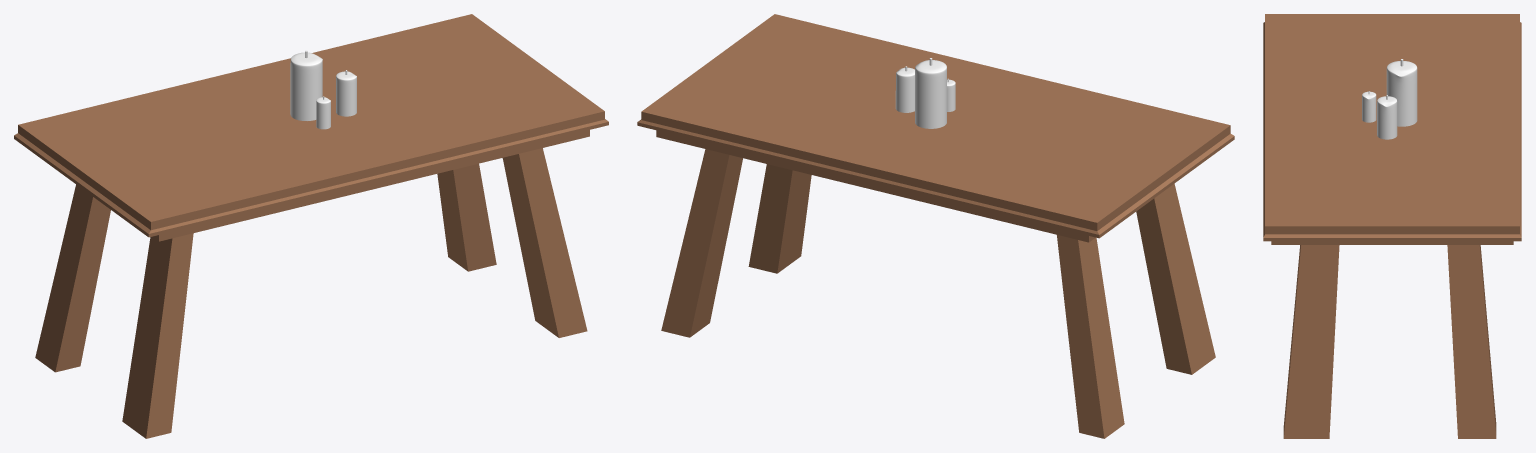
The picture shows the model from 3 angles, left to right: view 1: azimuth 30°, elevation 25°; view 2: azimuth 150°, elevation 25°; view 3: azimuth 270°, elevation 25°; orthographic projection. The views are drawn at different scales.
Visible parts, largest first — view 1: Cube_0, Cylinder_3, Cylinder.002_5; view 2: Cube_0, Cylinder_3, Cylinder.002_5; view 3: Cube_0, Cylinder_3, Cylinder.002_5, Cylinder.001_4.
Part boxes in pixels (x1,y1,x2,y2): Cube_0: [14, 14, 608, 438]; Cylinder_3: [290, 50, 322, 120]; Cylinder.002_5: [336, 70, 356, 116]; Cube_0: [637, 14, 1234, 438]; Cylinder_3: [915, 58, 946, 128]; Cylinder.002_5: [895, 66, 914, 112]; Cube_0: [1263, 14, 1521, 438]; Cylinder_3: [1386, 59, 1417, 126]; Cylinder.002_5: [1377, 95, 1397, 139]; Cylinder.001_4: [1362, 91, 1376, 122].
Size of the model in its own units: 8.81 by 5.28 by 4.47.
